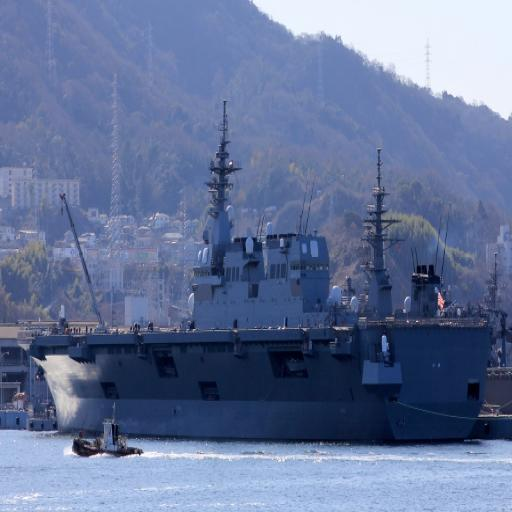Portanaves: (15, 99, 496, 447)
